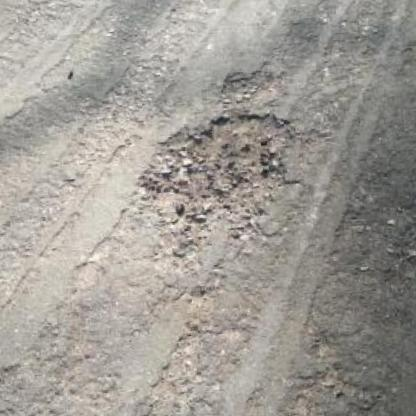pothole: (143, 113, 306, 249), (216, 65, 275, 106)
